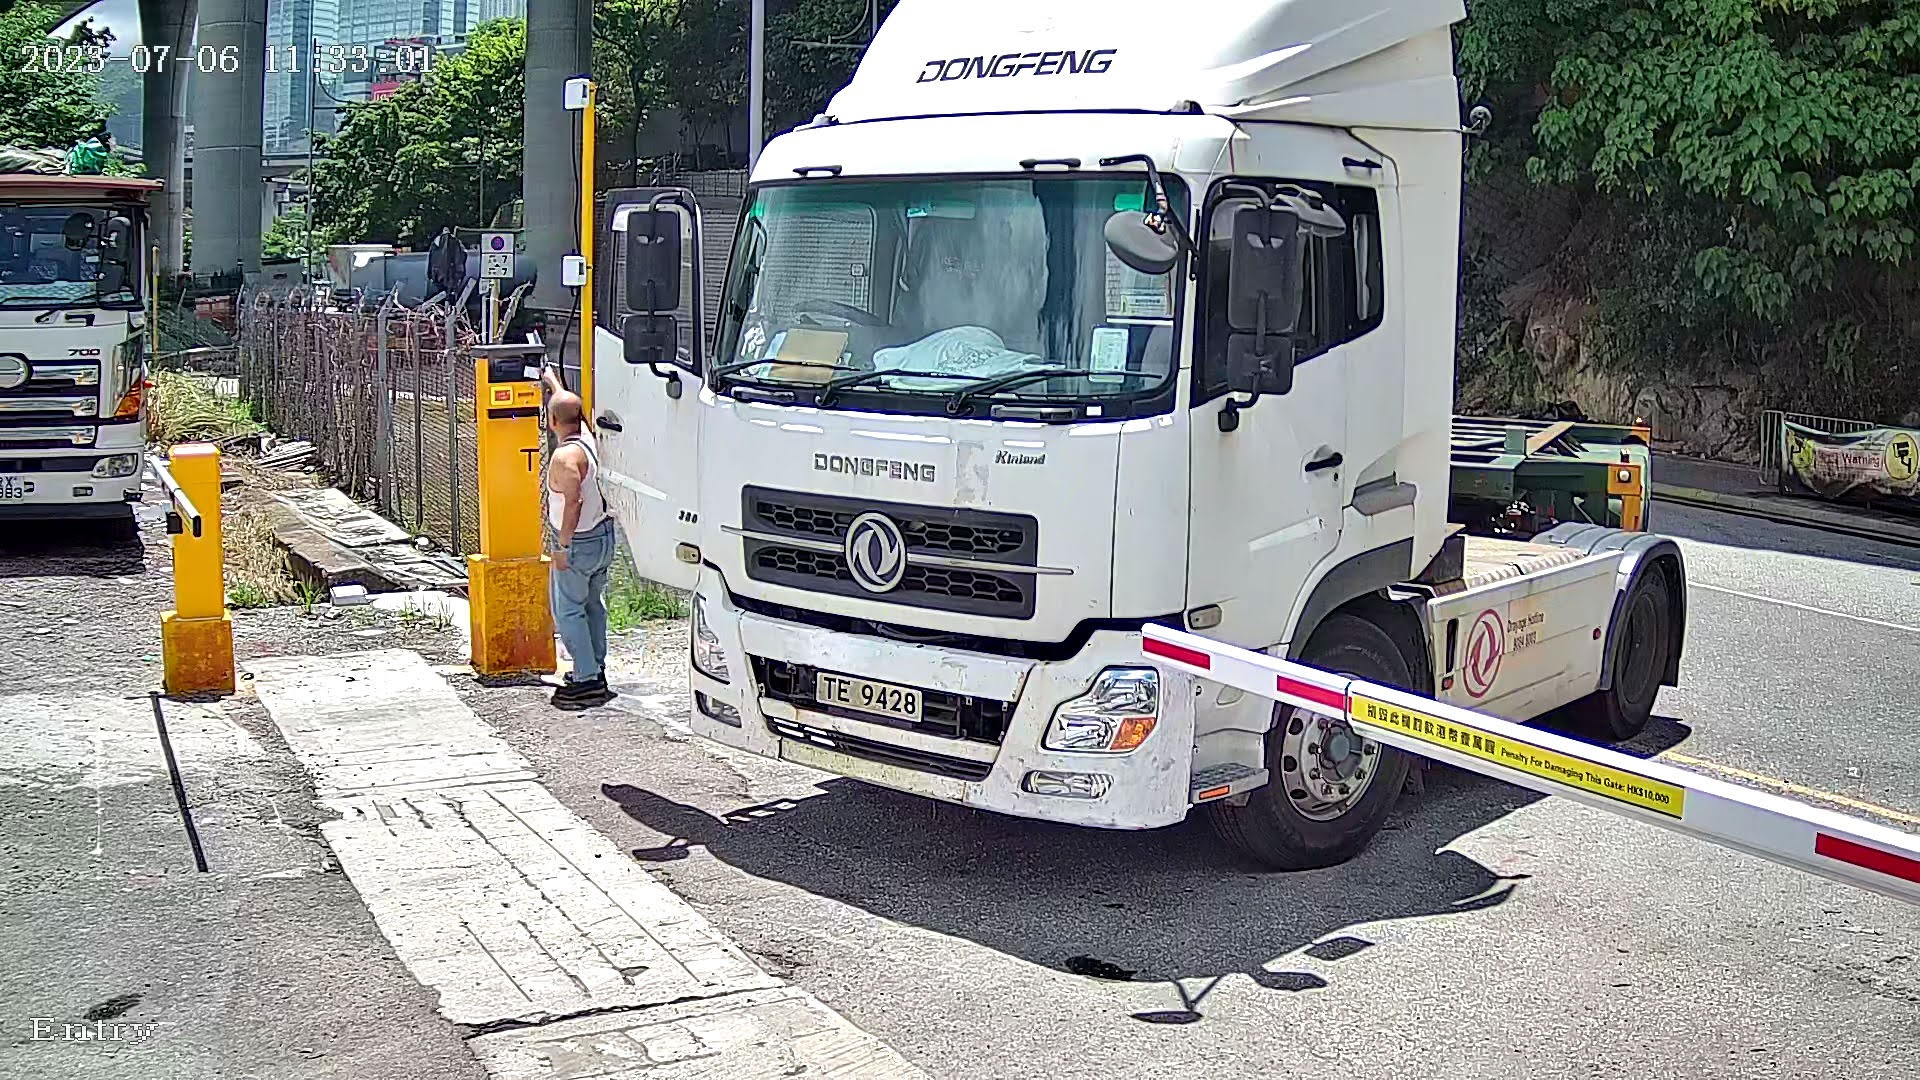tractor: (615, 1, 1729, 948)
